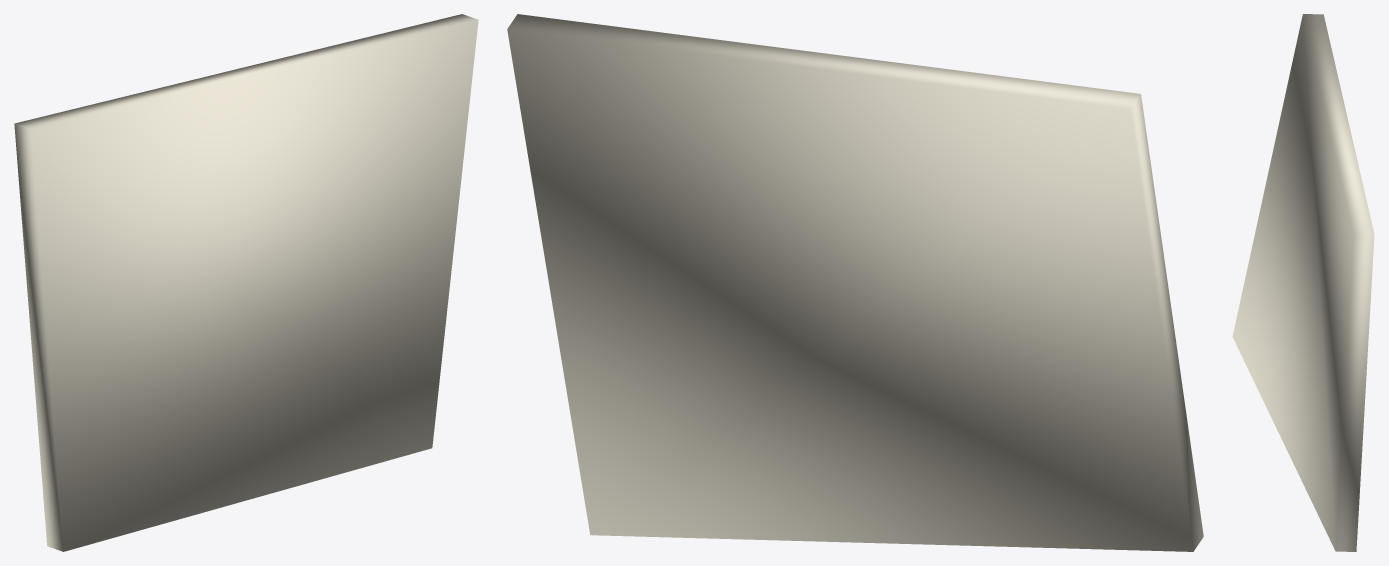
The picture shows the model from 3 angles, left to right: view 1: azimuth 30°, elevation 25°; view 2: azimuth 150°, elevation 25°; view 3: azimuth 270°, elevation 25°; orthographic projection. The views are drawn at different scales.
Parts seen in each view (by area): view 1: ZA_9a105fd9dc3d5c12; view 2: ZA_9a105fd9dc3d5c12; view 3: ZA_9a105fd9dc3d5c12.
Boxes of the visible parts, x1,y1,x2,y2 form: ZA_9a105fd9dc3d5c12: (14, 14, 478, 551); ZA_9a105fd9dc3d5c12: (507, 14, 1203, 551); ZA_9a105fd9dc3d5c12: (1232, 14, 1374, 551).
Bounding box in the file's own units: 0.0112 × 0.00952 × 0.00333.
